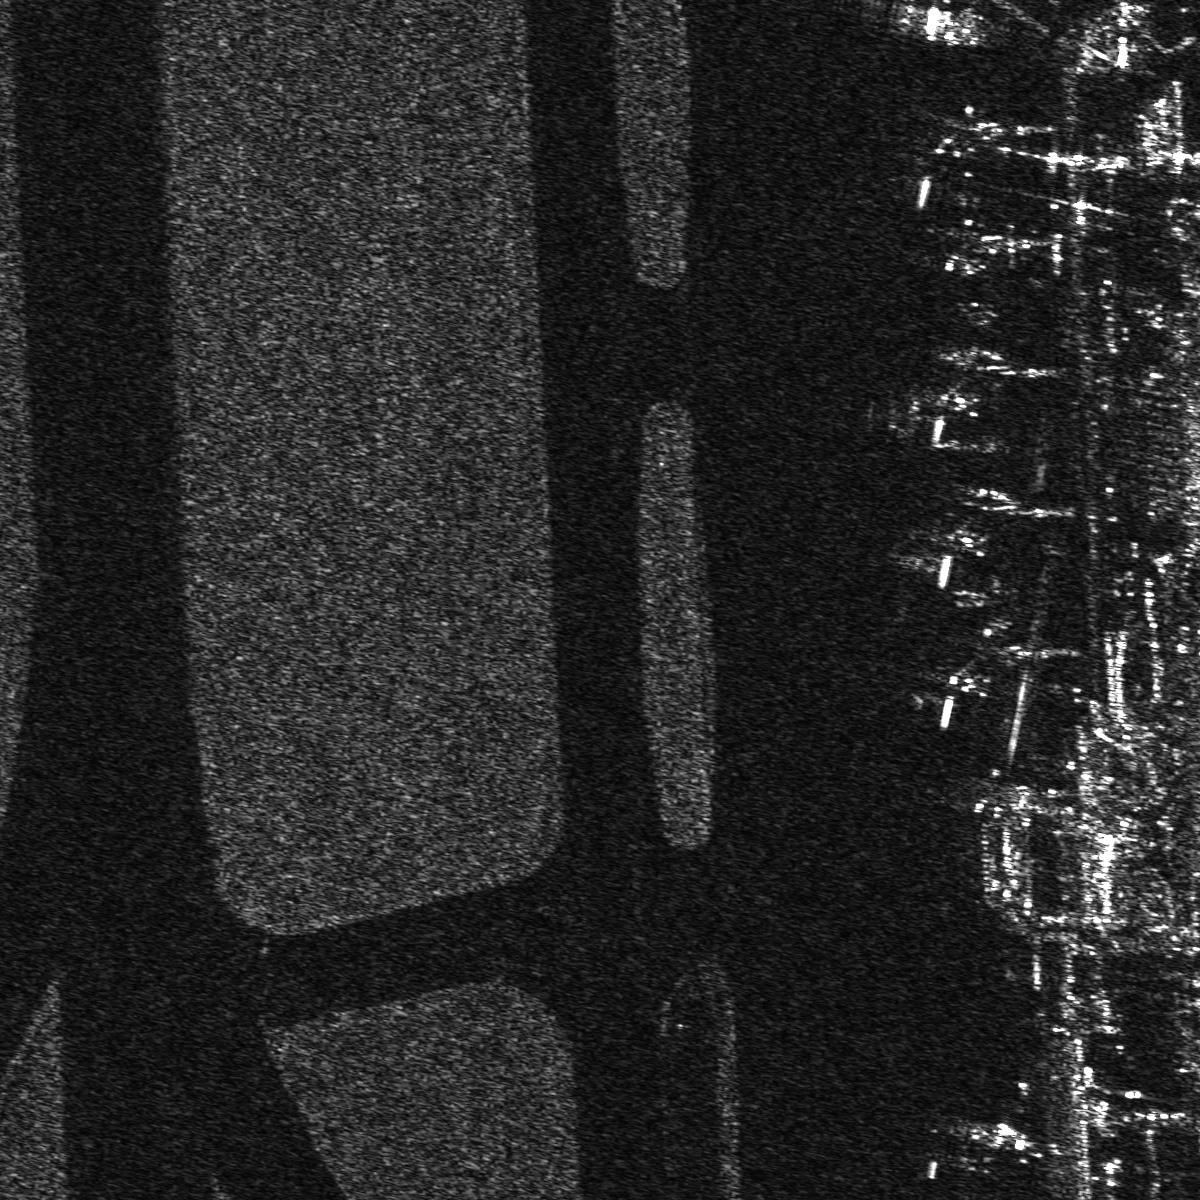A220: (916, 1112, 1056, 1182)
